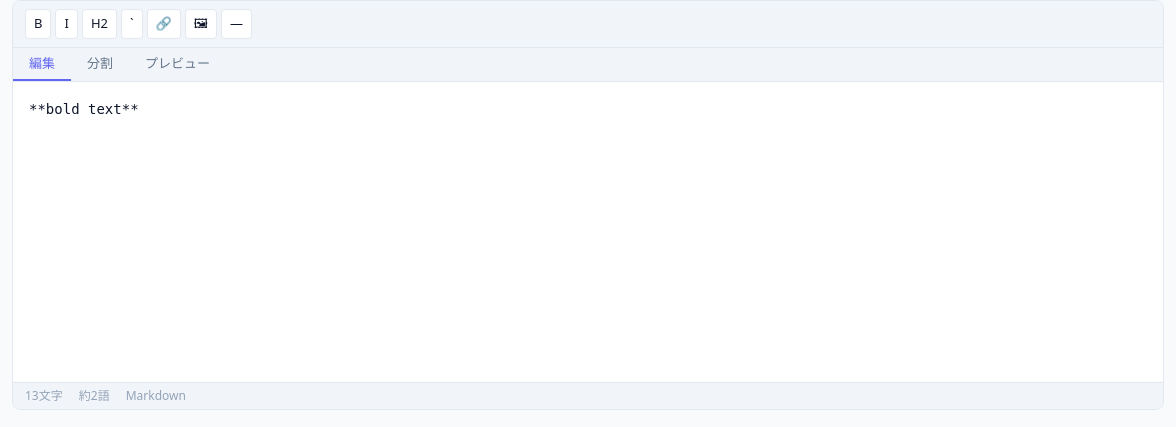
Test: MarkdownEditor › shows preview when switching to preview mode
The width and height of the screenshot is (1176, 427).
Click the tab "プレビュー".
click(178, 64)  # box [129,48,226,81]
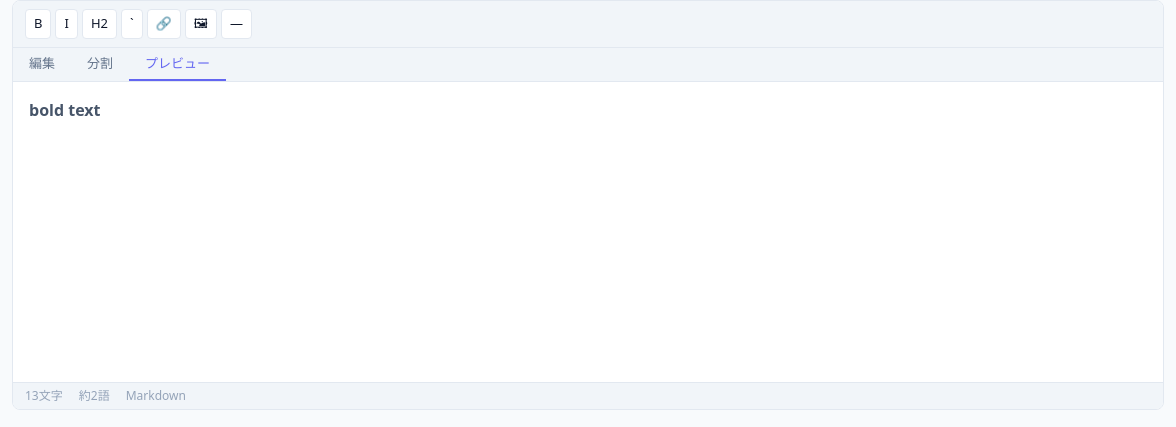
Expected: the text "bold text" is shown, [29,99,100,121]
